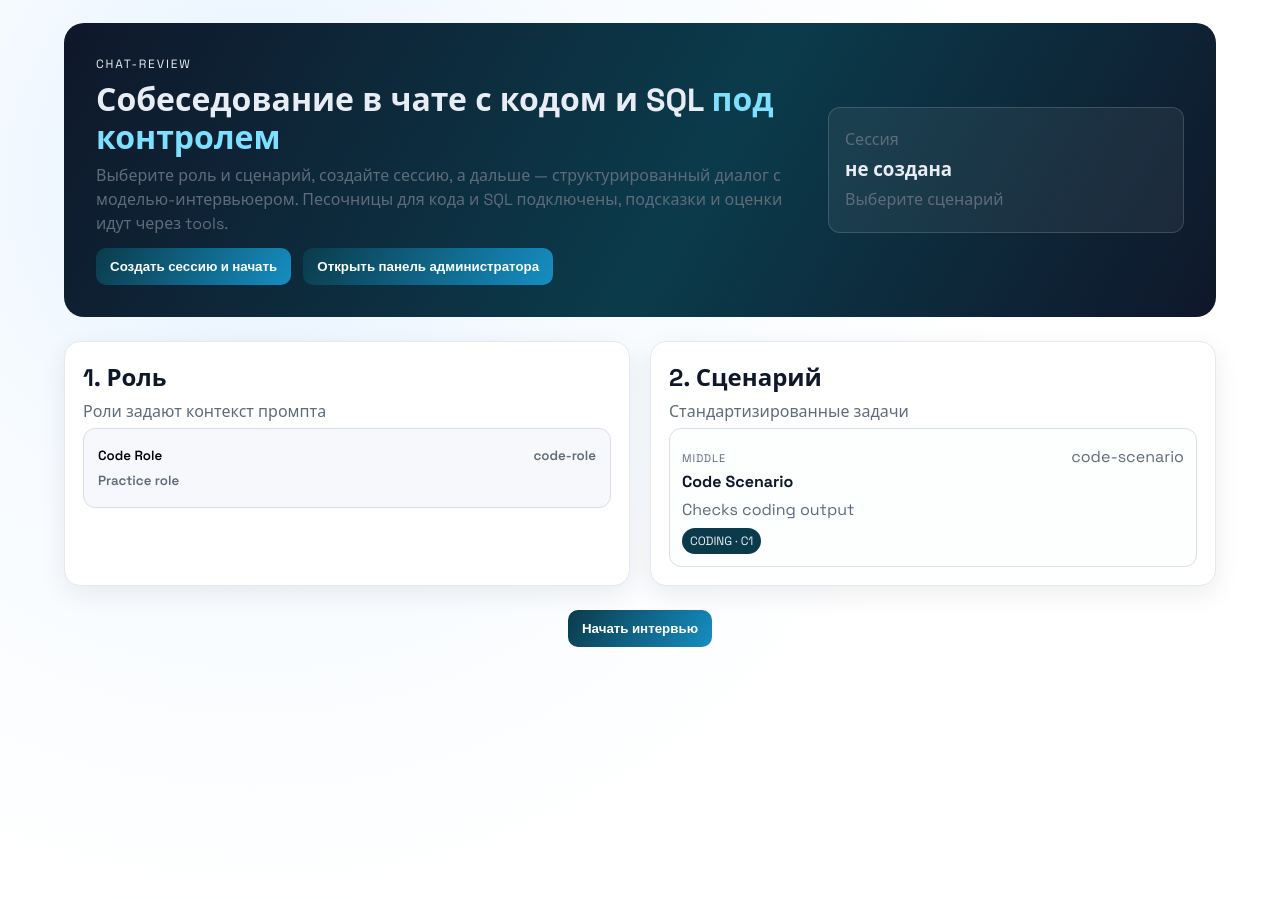
Test: Practice feedback UI › uses the last successful score_task result so the score stays visible after retries
This screenshot has width=1280, height=899.
Click the text "Code Role".
click(130, 455)  # box [98,447,162,464]
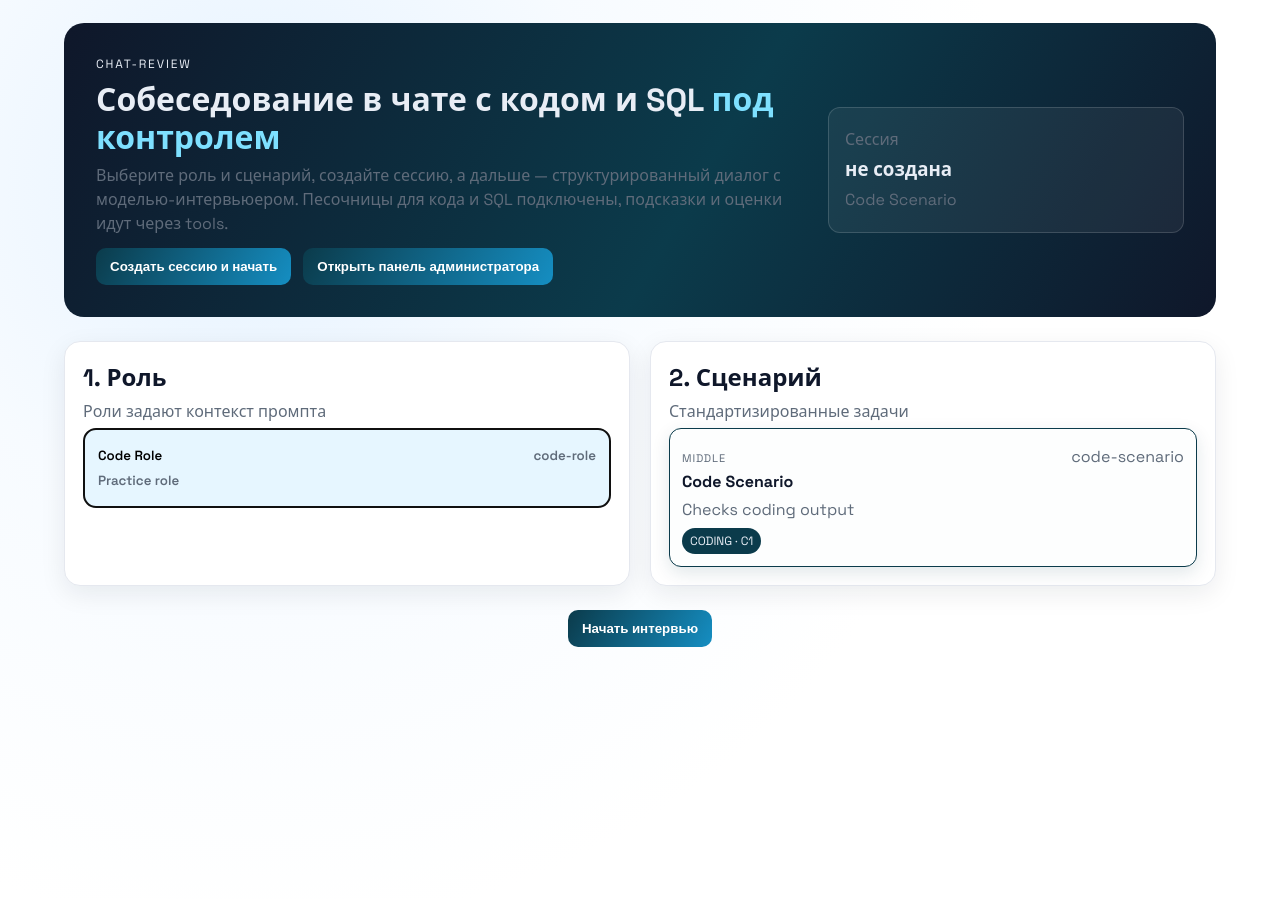
Click the text "Checks coding output".
click(768, 510)  # box [682,499,854,520]
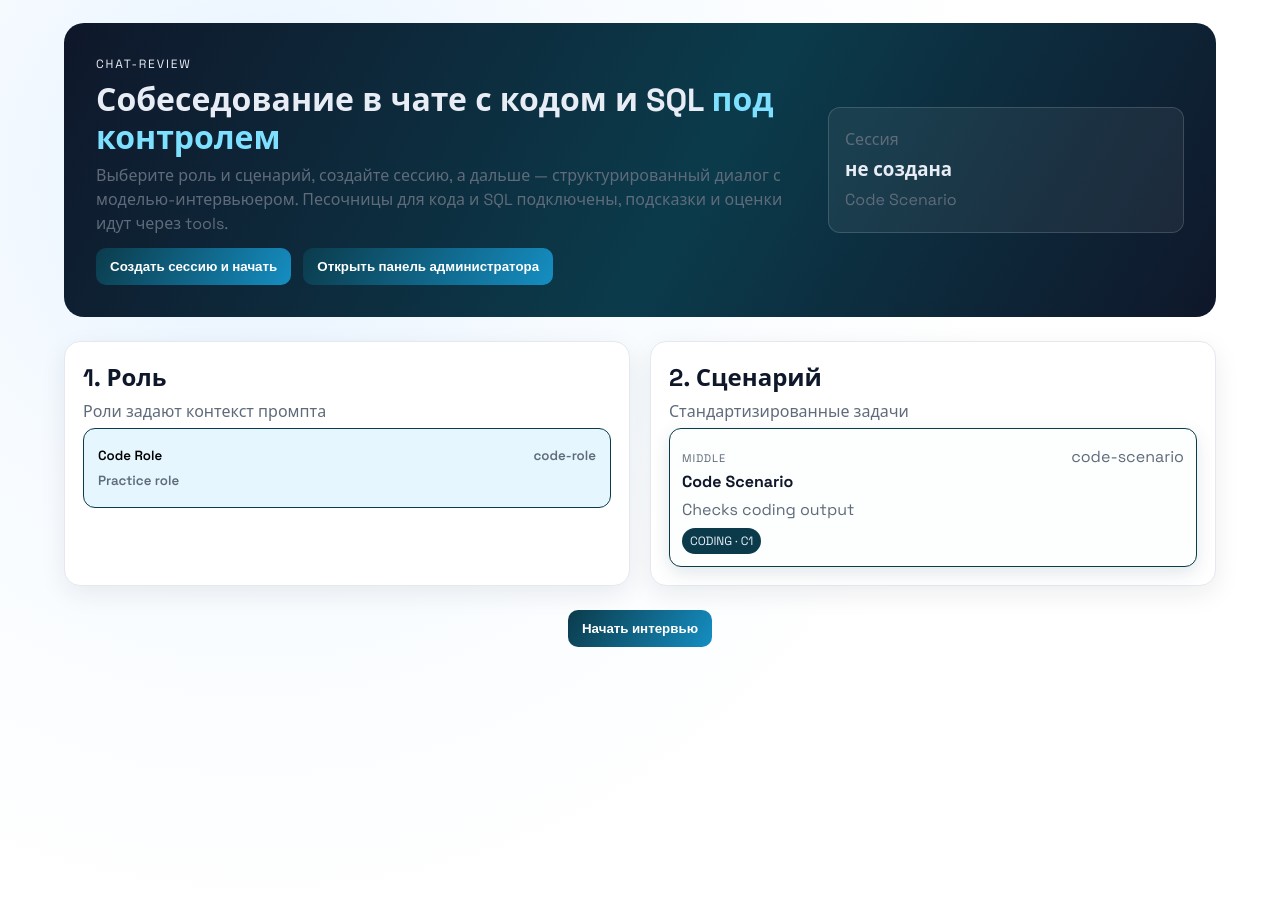
Click the button with test id "start-session-button".
click(194, 266)  # box [96,248,291,285]
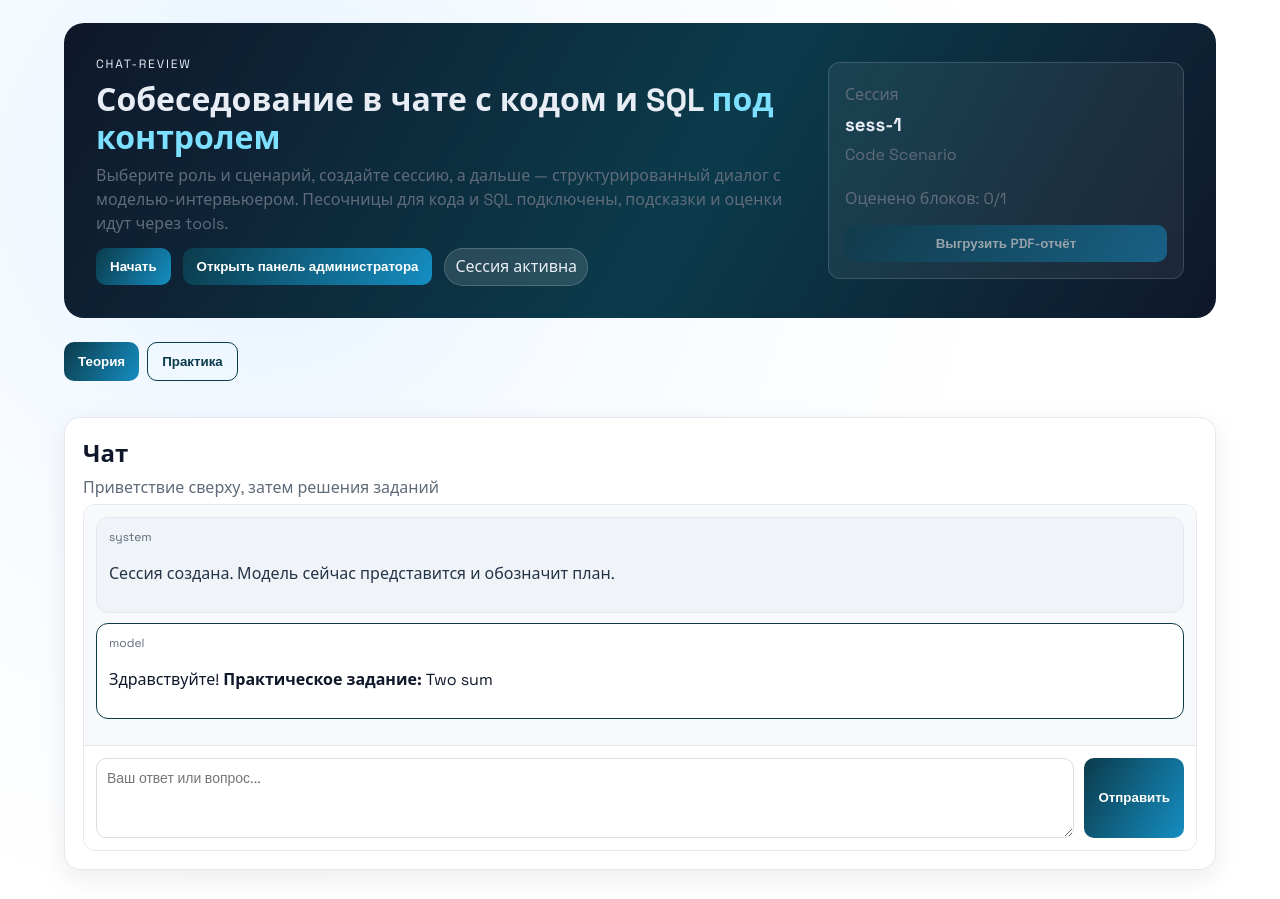
Click the button with test id "practice-mode-toggle".
click(192, 361)  # box [147,342,238,381]
(page scrolled)
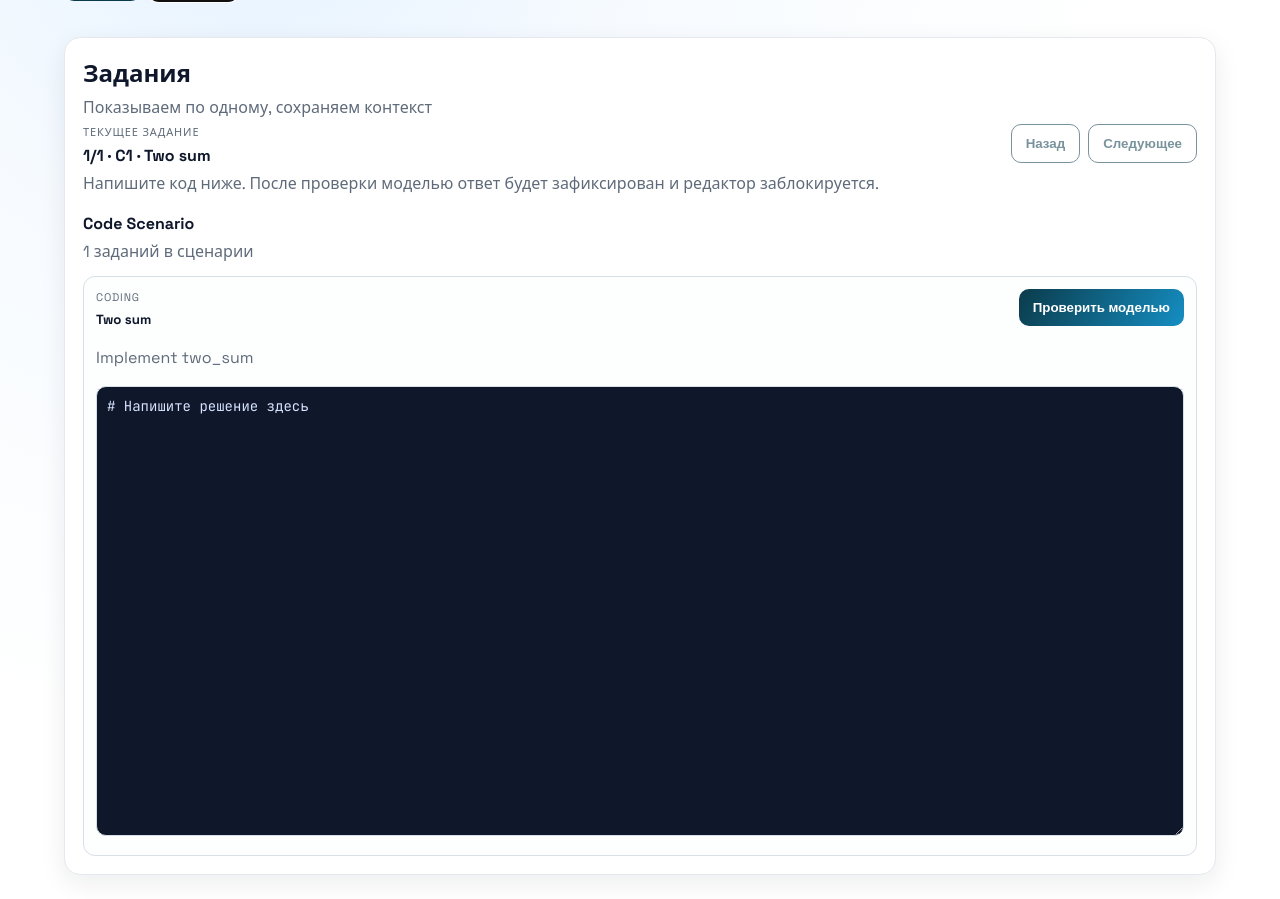
Replace the text in the text box with test id "coding-draft-input" with "def two_sum(nums, target): return []" at (640, 611), box [96,386,1184,836]
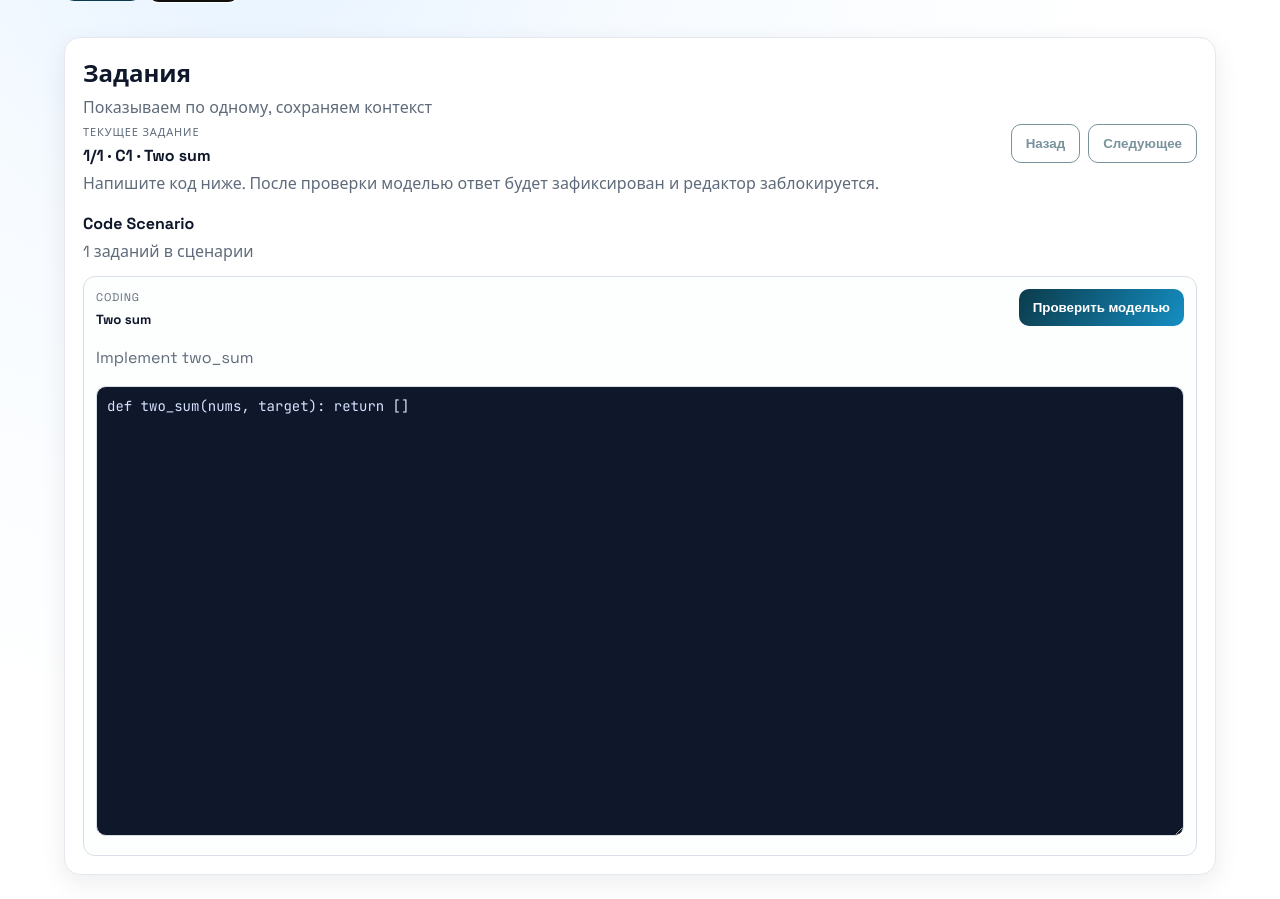
Click the button with test id "review-code-button".
click(1101, 308)  # box [1019,289,1184,326]
(page scrolled)
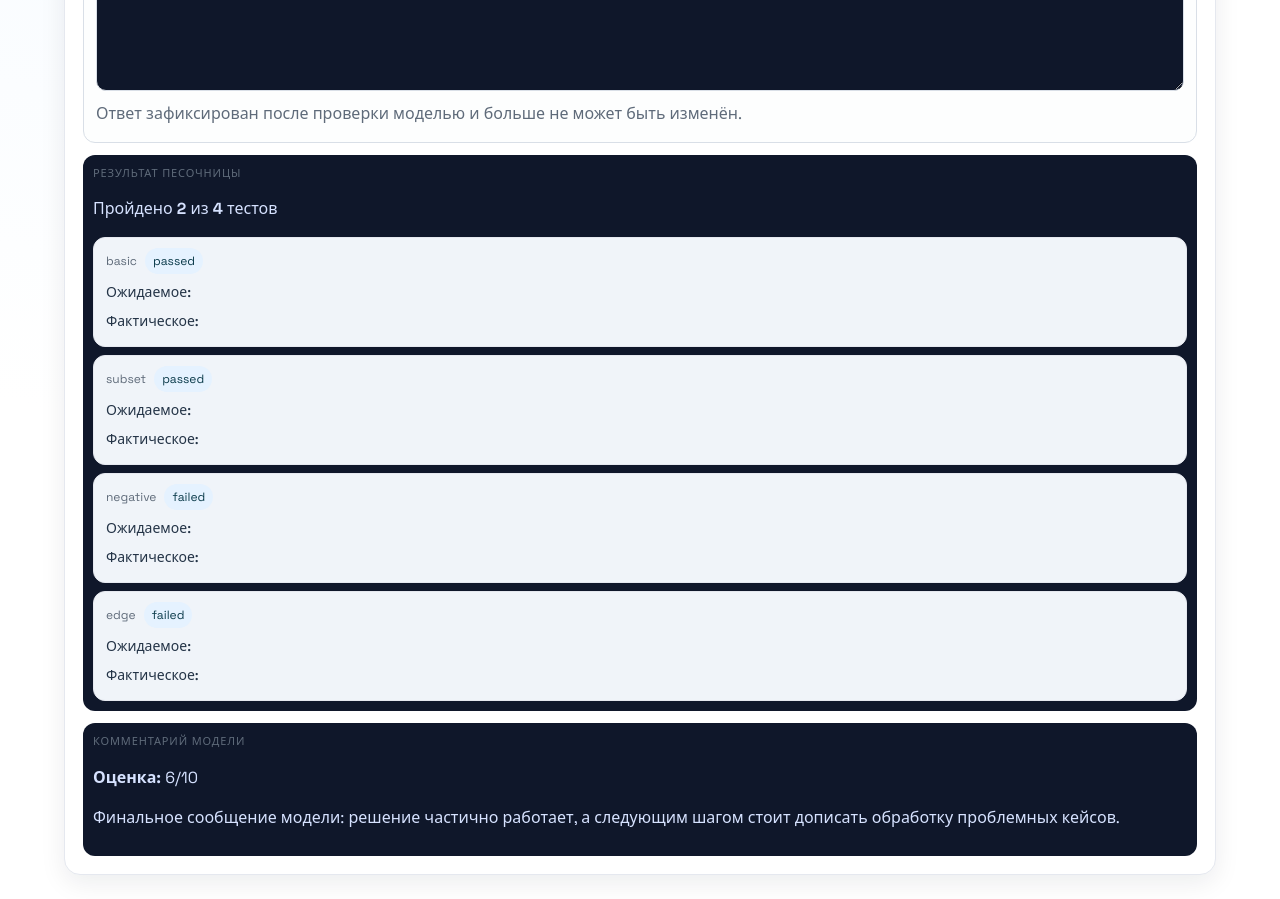
Now the text "Оценка: 6/10" is shown, box [93,767,198,788]
Now the text "Оценка:" is shown once, box [93,767,161,788]
